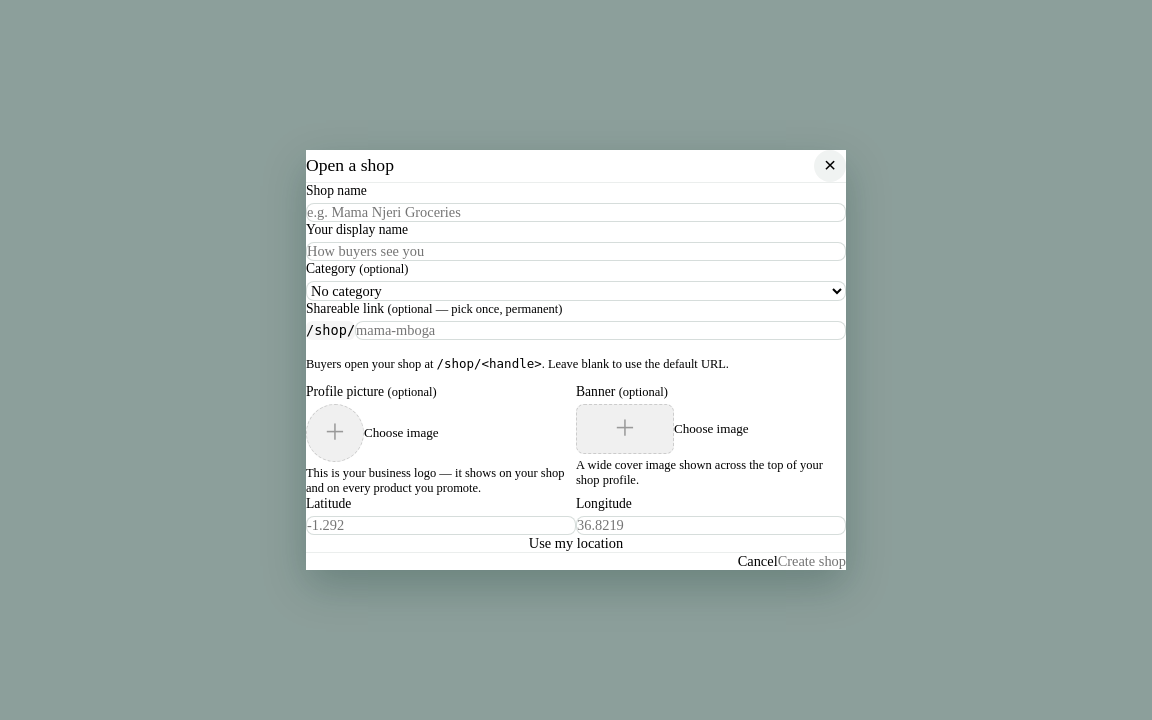
Test: CreateShopForm › shows the "reserved" error inline (server-side deny-list, but caught pre-emptively)
The image size is (1152, 720).
Step 1. Type "admin" into the field with test id "shop-handle" → coordinates (601, 330), box [355,320,846,340]
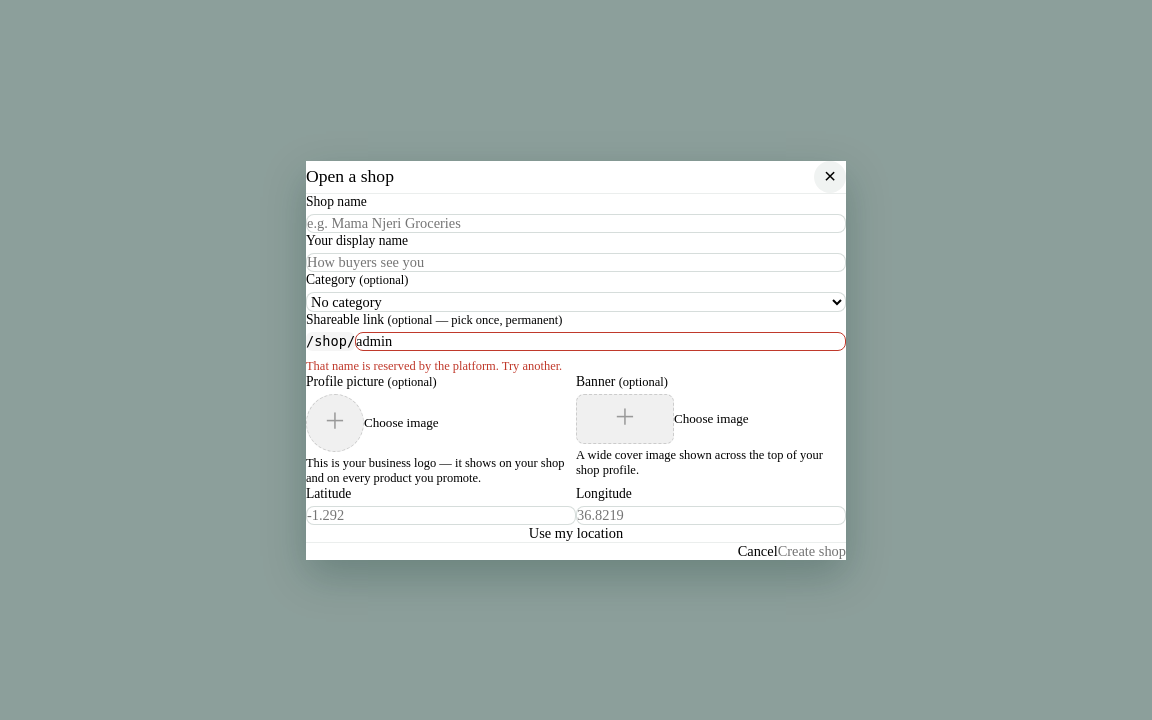
Expected: the text with test id "shop-handle-error" shows "reserved", [306,358,562,372]
